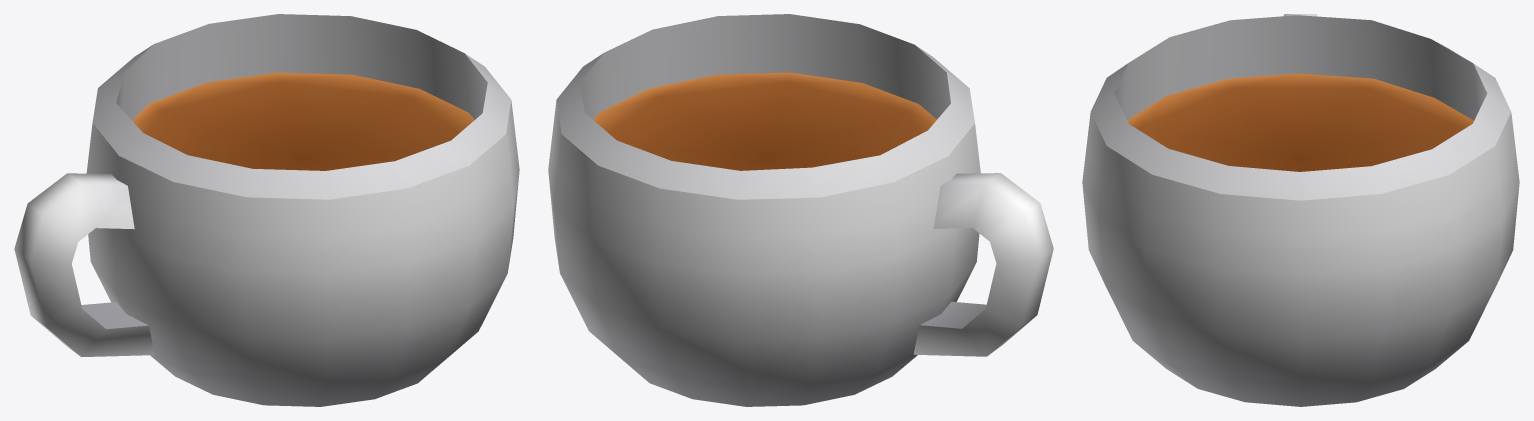
Rendered from m_CupTea03.fbx.
The picture shows the model from 3 angles, left to right: view 1: azimuth 30°, elevation 25°; view 2: azimuth 150°, elevation 25°; view 3: azimuth 270°, elevation 25°; orthographic projection.
Parts seen in each view (by area): view 1: m_CupTea03; view 2: m_CupTea03; view 3: m_CupTea03.
Boxes of the visible parts, x1,y1,x2,y2 form: m_CupTea03: [14, 14, 519, 406]; m_CupTea03: [548, 14, 1053, 406]; m_CupTea03: [1082, 14, 1519, 406].
Size of the model in its own units: 14.34 by 7.38 by 11.6.
